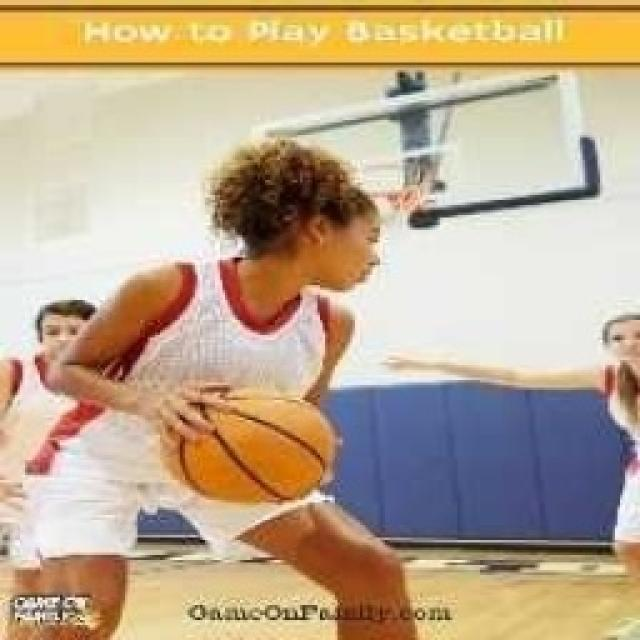rim: (162, 384, 343, 514)
